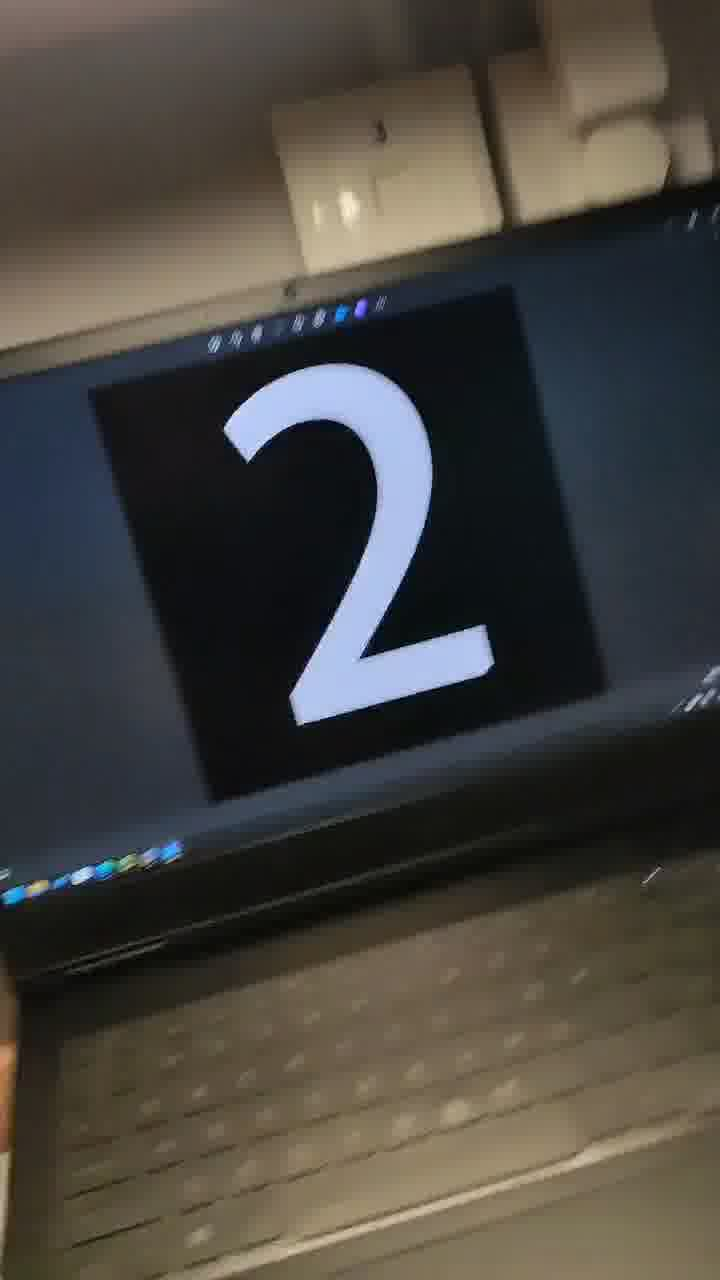two: (204, 307, 558, 763)
